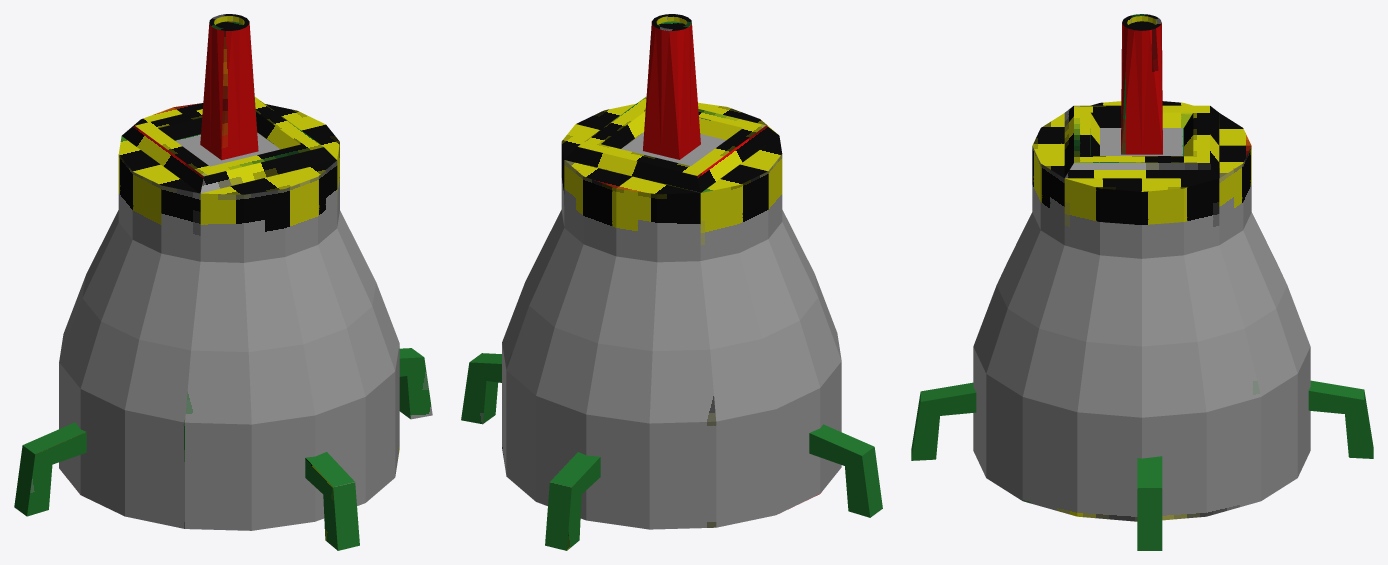
The model's file is refinery.glb.
3 views of the same model, side by side, from view 1: azimuth 30°, elevation 25°; view 2: azimuth 150°, elevation 25°; view 3: azimuth 270°, elevation 25° (orthographic).
Parts seen in each view (by area): view 1: Circle; view 2: Circle; view 3: Circle.
Part boxes in pixels (x1,y1,x2,y2): Circle: [14, 14, 432, 550]; Circle: [461, 14, 882, 550]; Circle: [911, 14, 1373, 550].
Bounding box in the file's own units: 13.99 × 14.43 × 13.99.
1 material, 1 textured.
